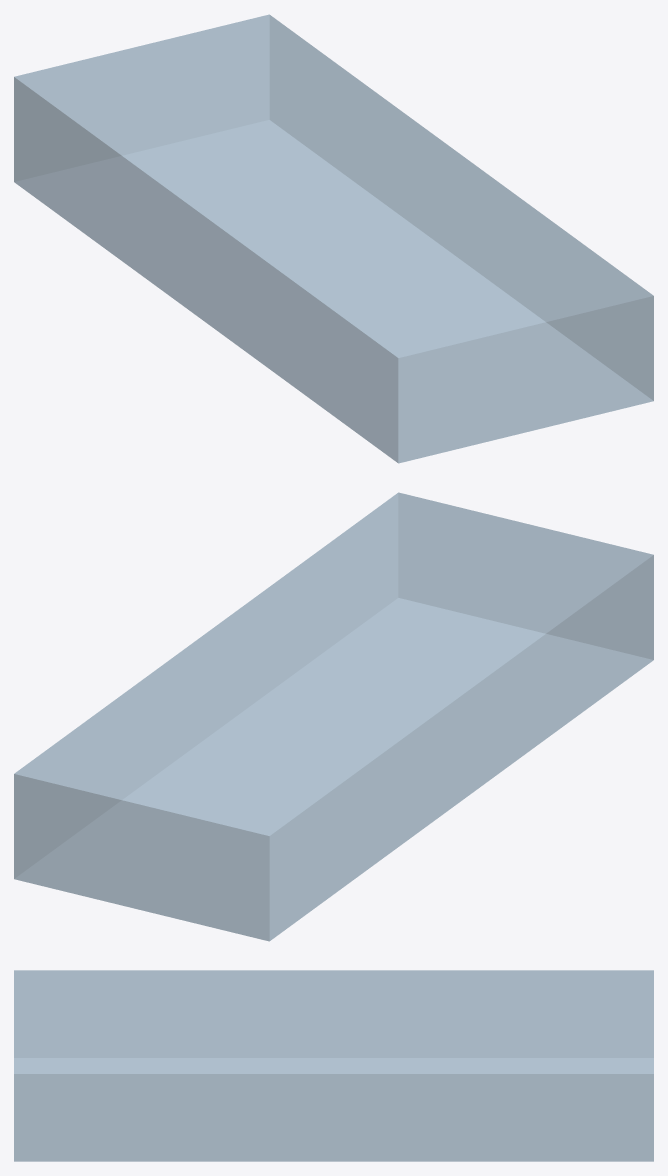
File: blockout.glb
3 views of the same model, one above another, from view 1: azimuth 30°, elevation 25°; view 2: azimuth 150°, elevation 25°; view 3: azimuth 270°, elevation 25° (orthographic). The views are drawn at different scales.
Visible parts, largest first — view 1: B10_ENVELOPE_NOT_FINAL_MESH; view 2: B10_ENVELOPE_NOT_FINAL_MESH; view 3: B10_ENVELOPE_NOT_FINAL_MESH.
Boxes of the visible parts, left/top/right/bottom form: B10_ENVELOPE_NOT_FINAL_MESH: left=14, top=14, right=653, bottom=463; B10_ENVELOPE_NOT_FINAL_MESH: left=14, top=492, right=653, bottom=941; B10_ENVELOPE_NOT_FINAL_MESH: left=14, top=970, right=653, bottom=1161.
Bounding box in the file's own units: 3.3 × 1.3 × 8.6.
